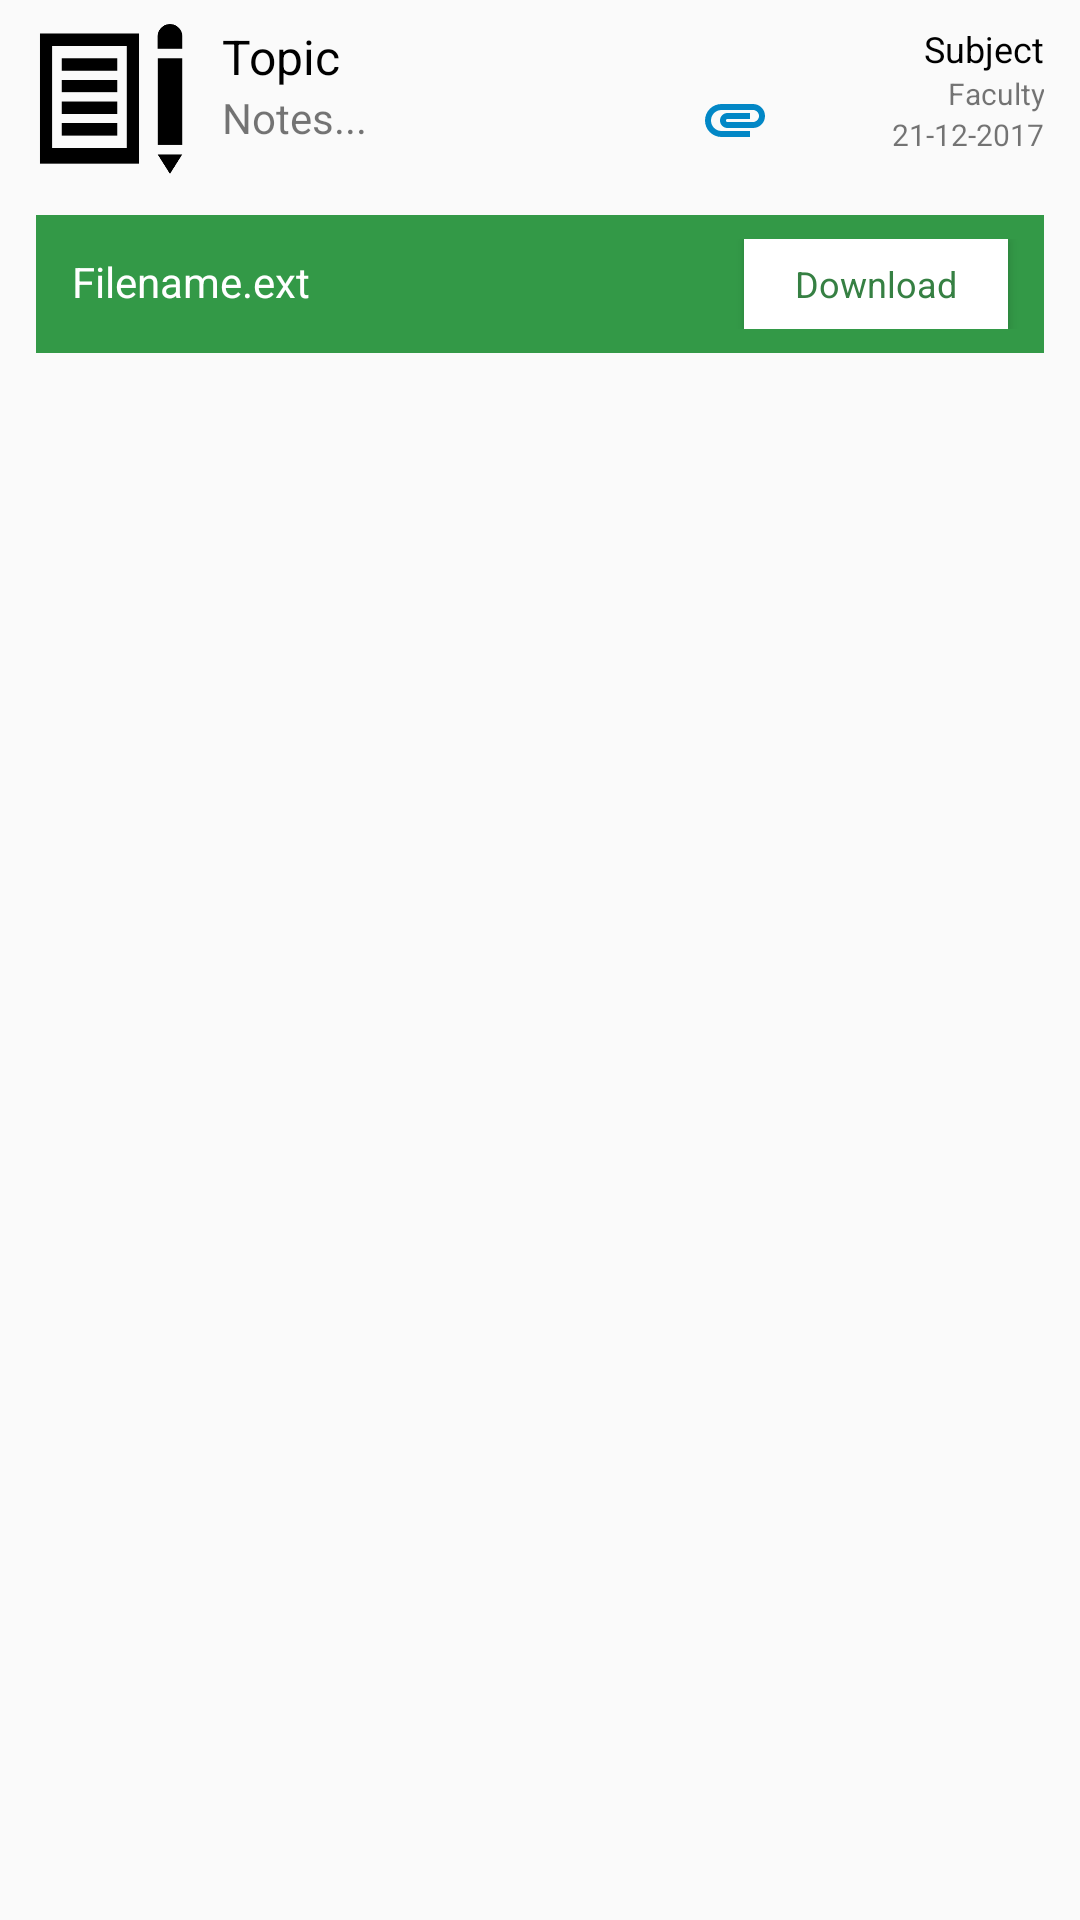

Point at icon controls on the screen. Image size 1080w x 1920h, points as (x=x, y=y).
attachment: (x=735, y=120)
lesson update: (x=111, y=99)
